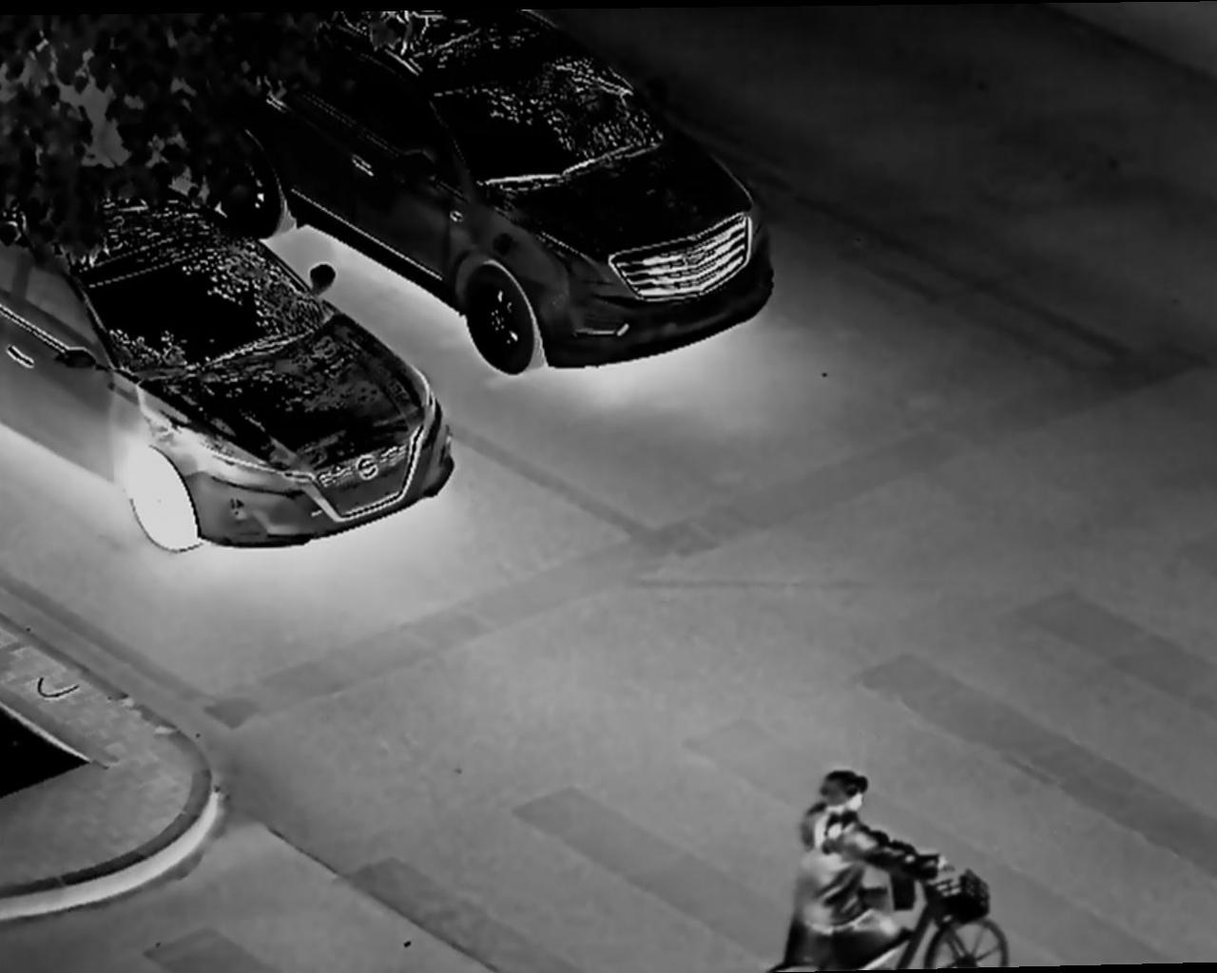person: (782, 771, 936, 973)
